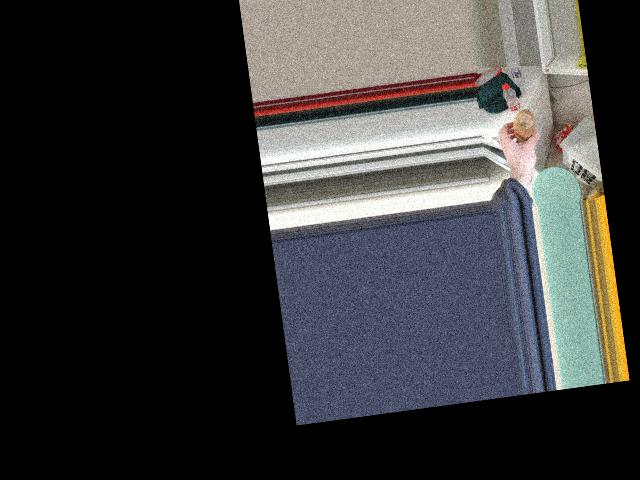sweet_potato: (508, 106, 541, 147)
